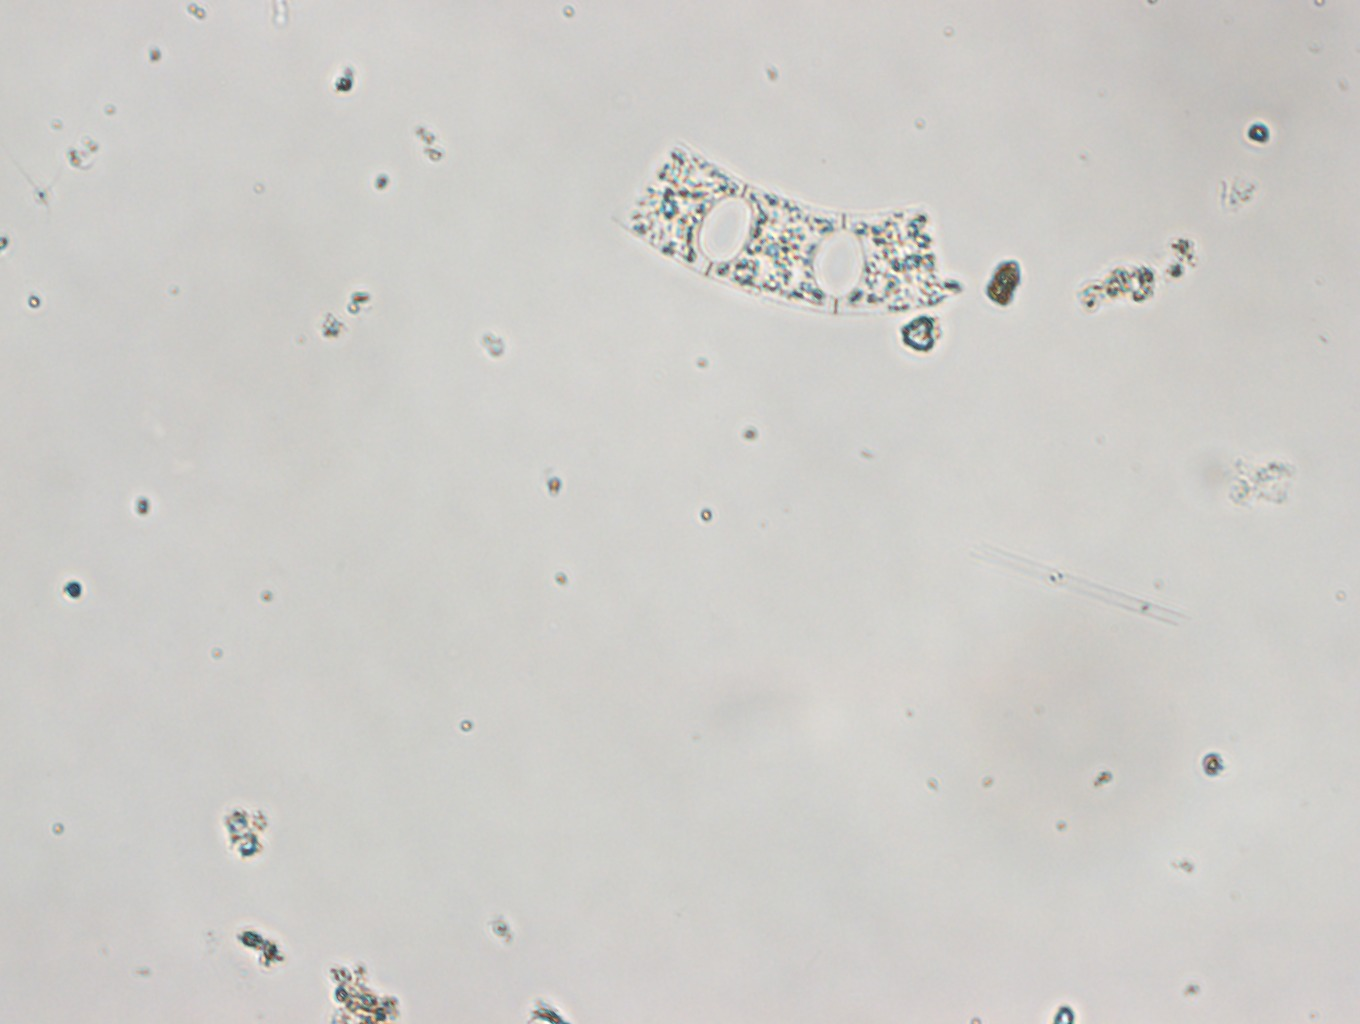eucampia: (625, 137, 960, 325)
